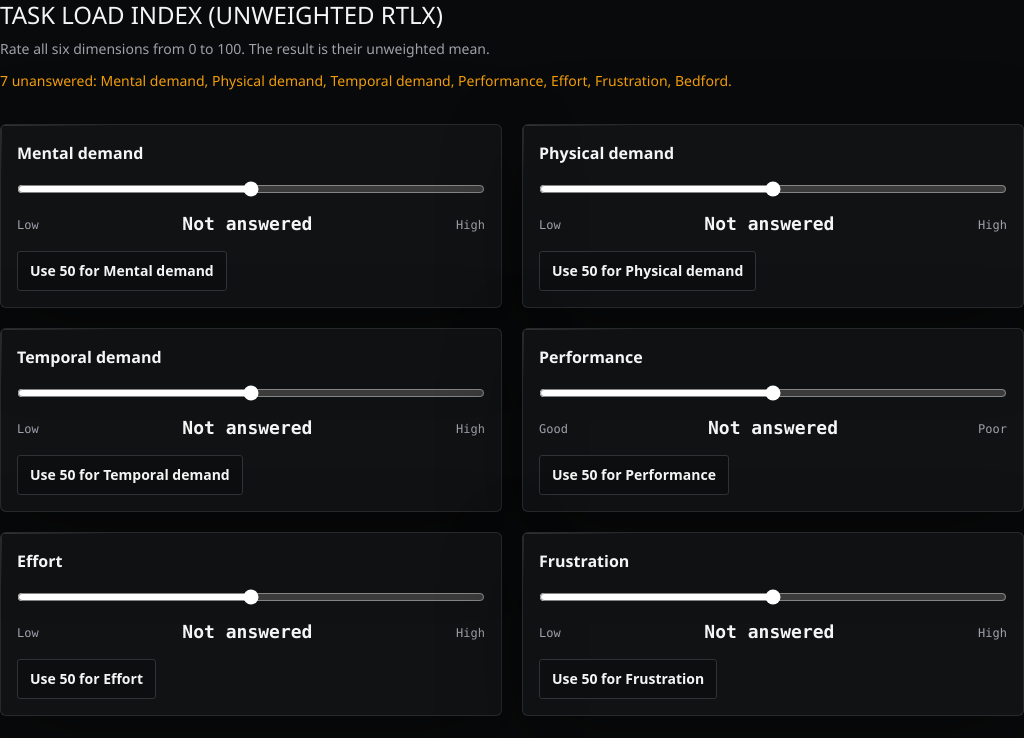
Test: WorkloadQuestionnaire › reports unavailable draft storage instead of losing the error
Step 1. Set the slider labelled "Mental demand" to "60" → (296, 189), box 17,181 -> 485,197
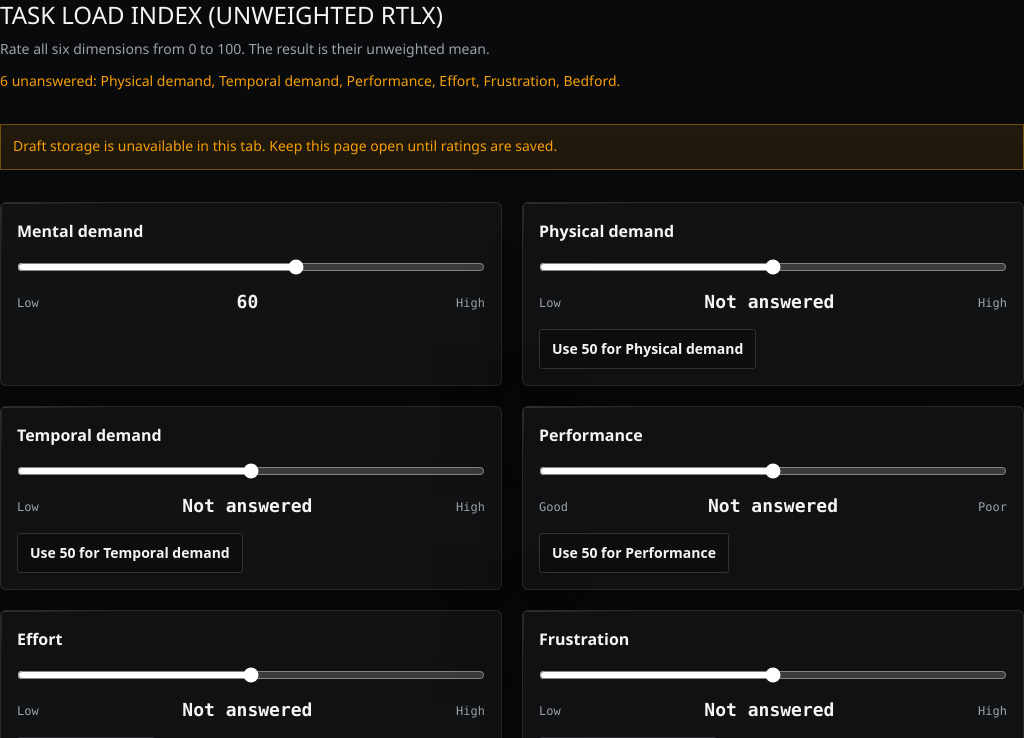
Check: the 2nd message shows "Draft storage is unavailable in this tab. Keep this page open until ratings are saved.", box 13,137 -> 557,156
